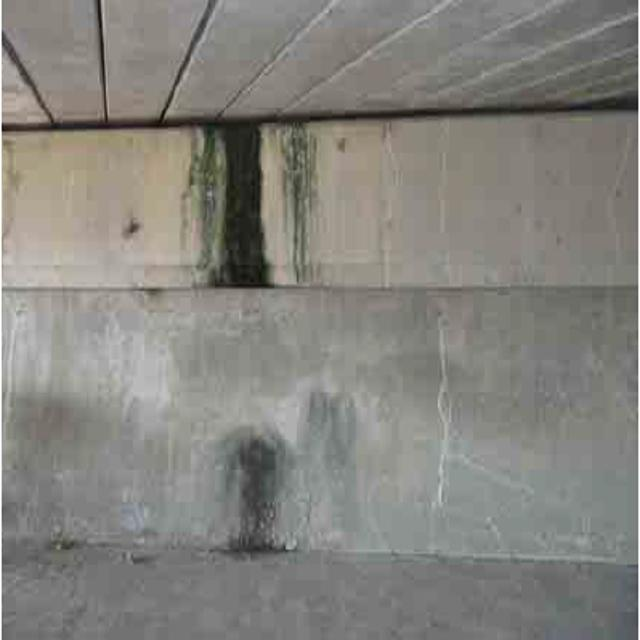leakage: (180, 111, 330, 292), (220, 434, 316, 556)
